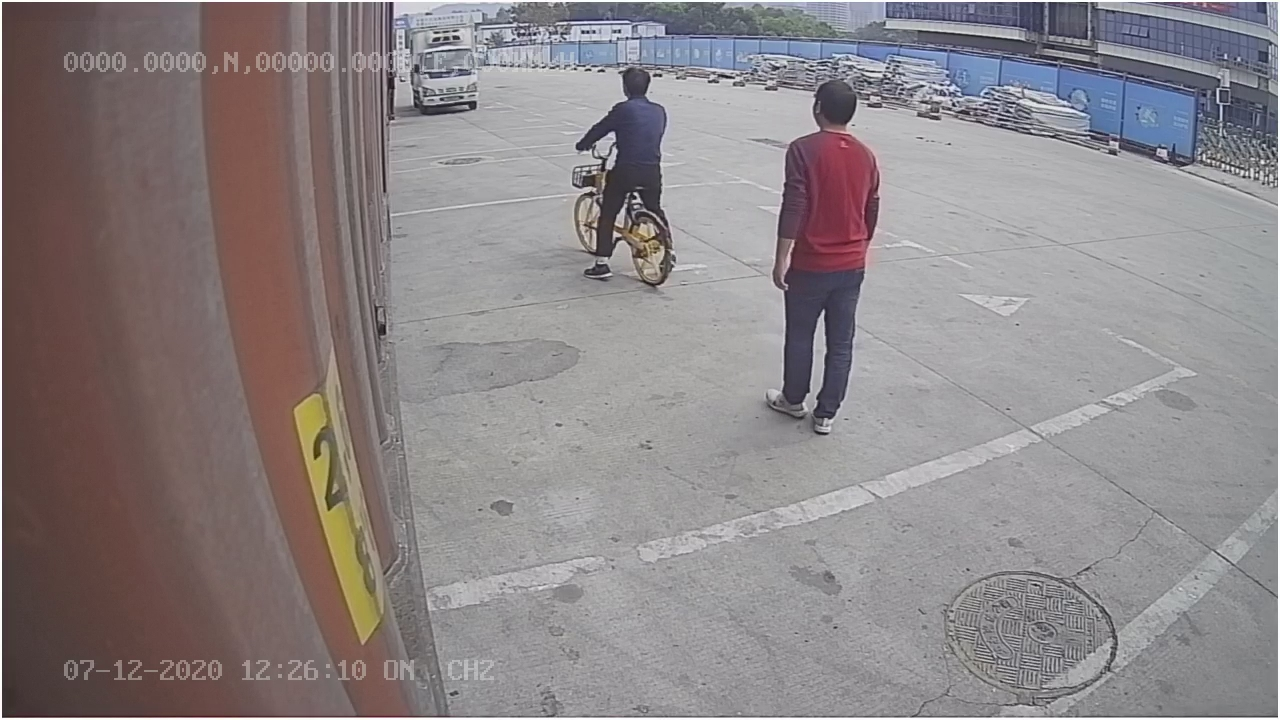person: (757, 76, 888, 443)
